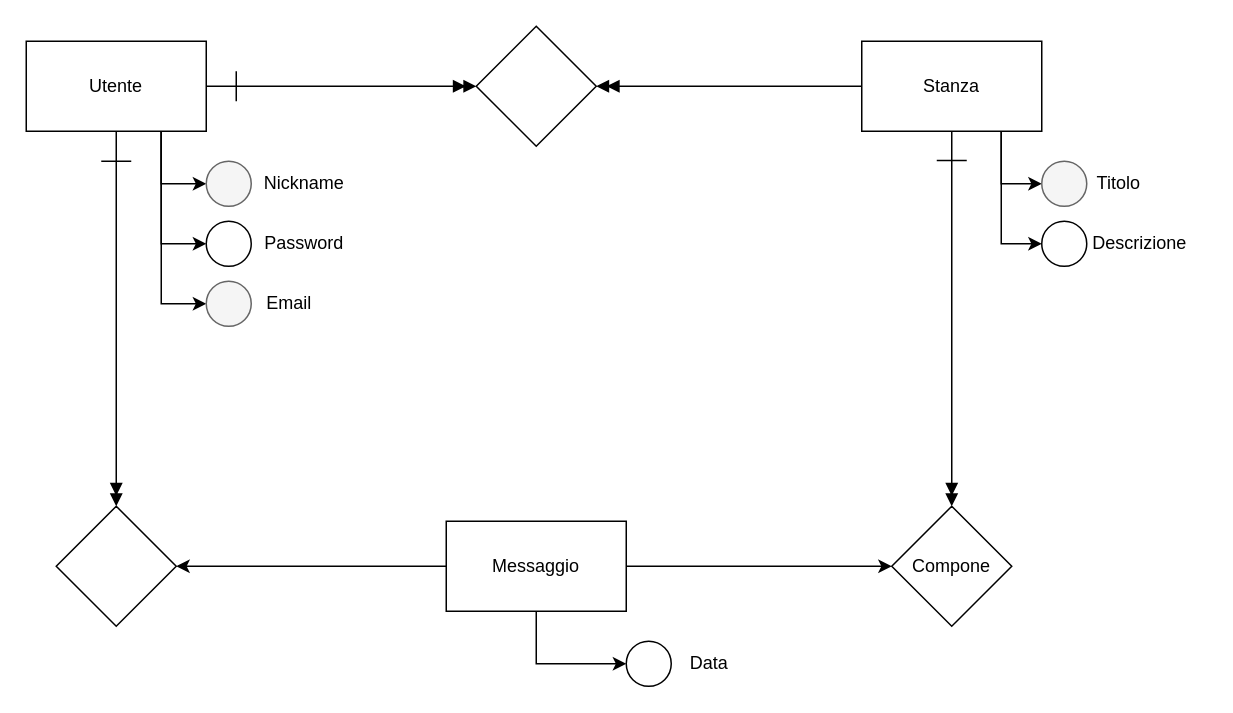
This 1233x713 diagram has some shape labels left out. Each missing label, with the box of its shape:
Partecipa: (475, 25, 596, 146)
Spedisce: (55, 505, 176, 626)
